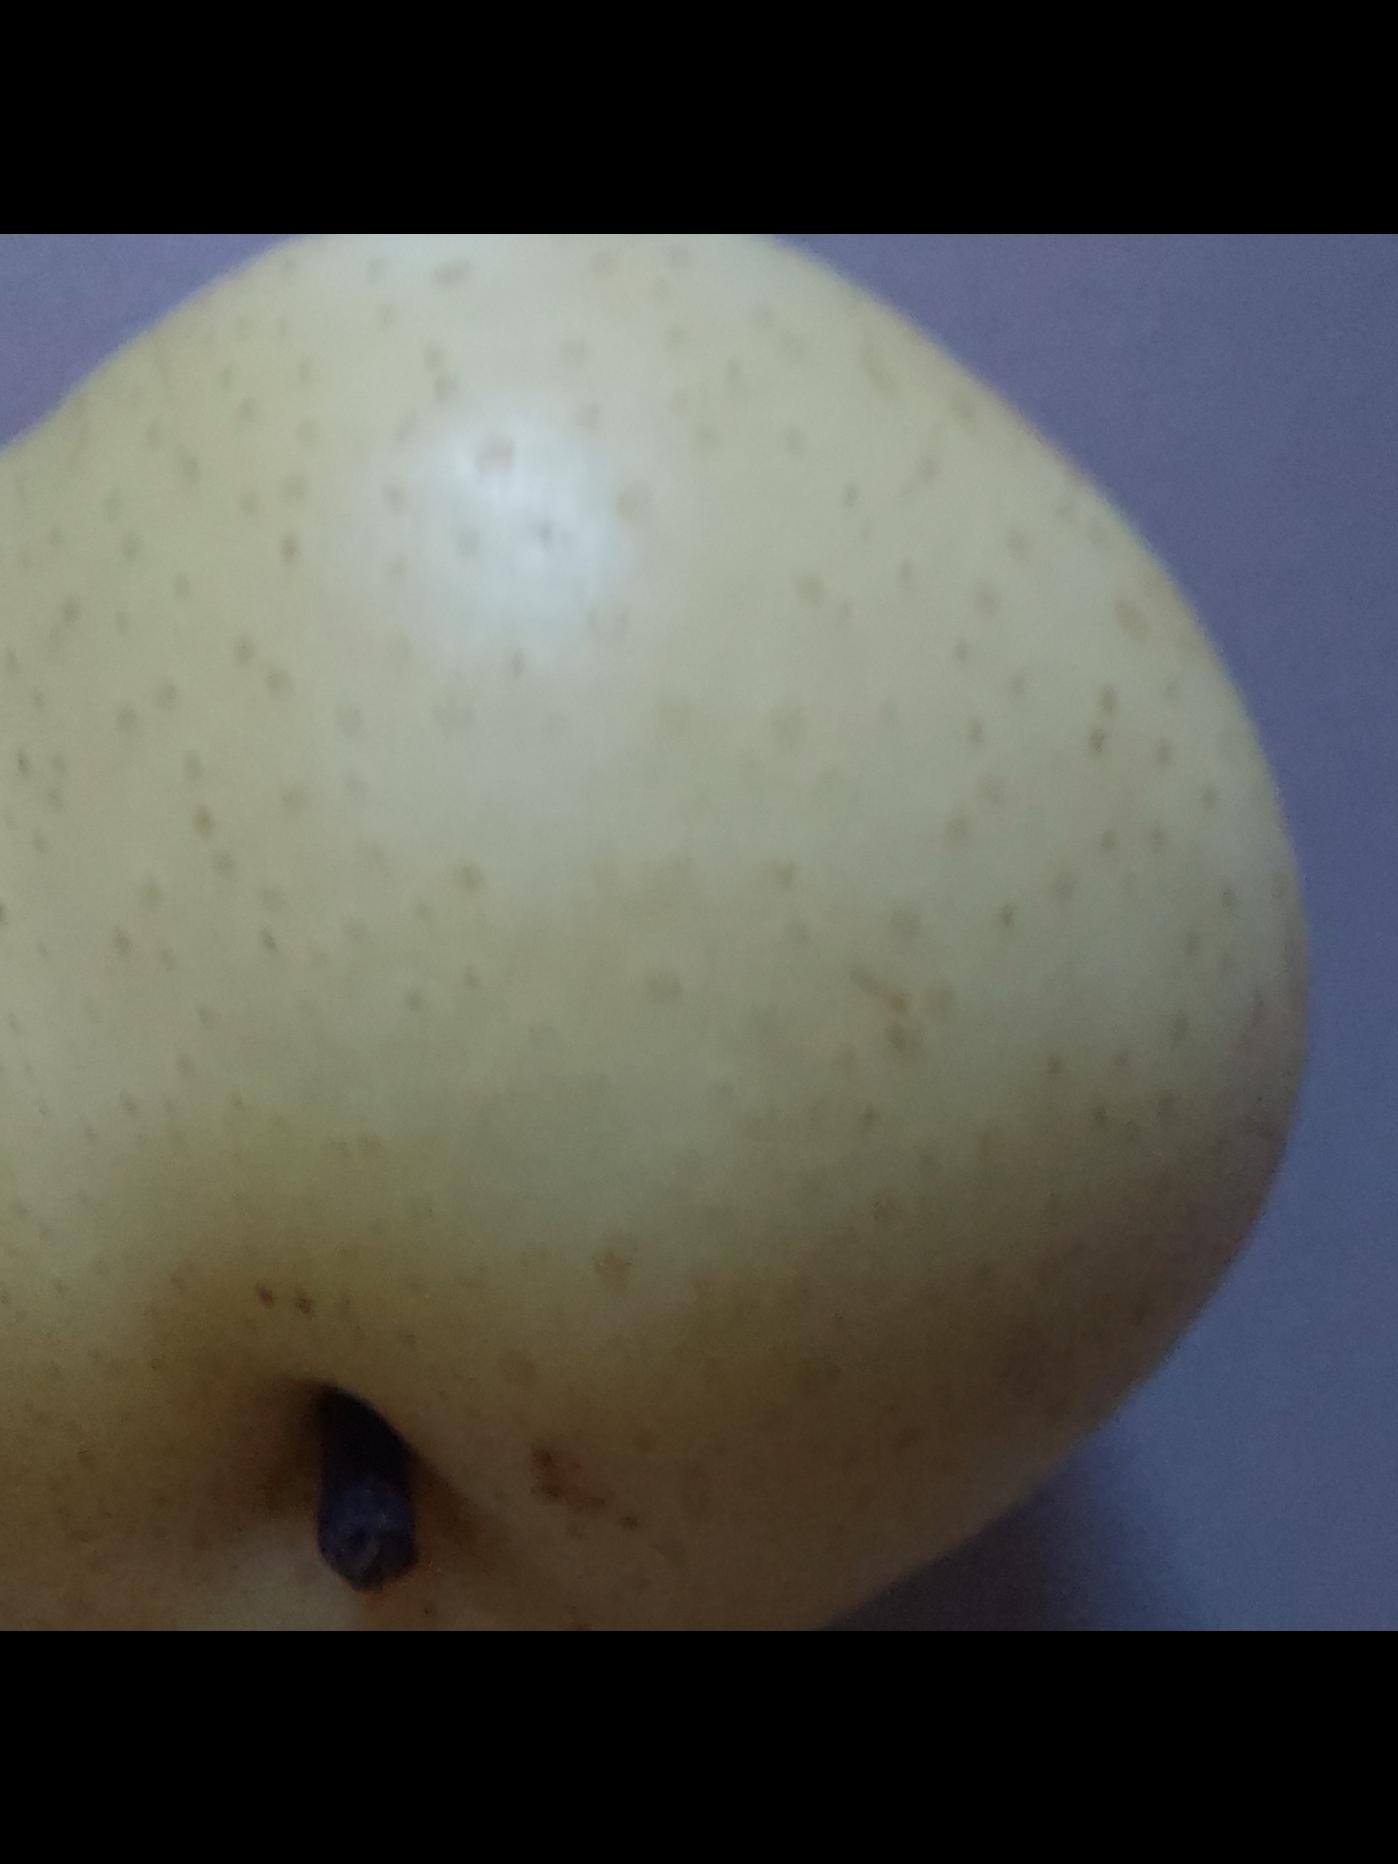Good Pear: (0, 233, 1330, 1631)
